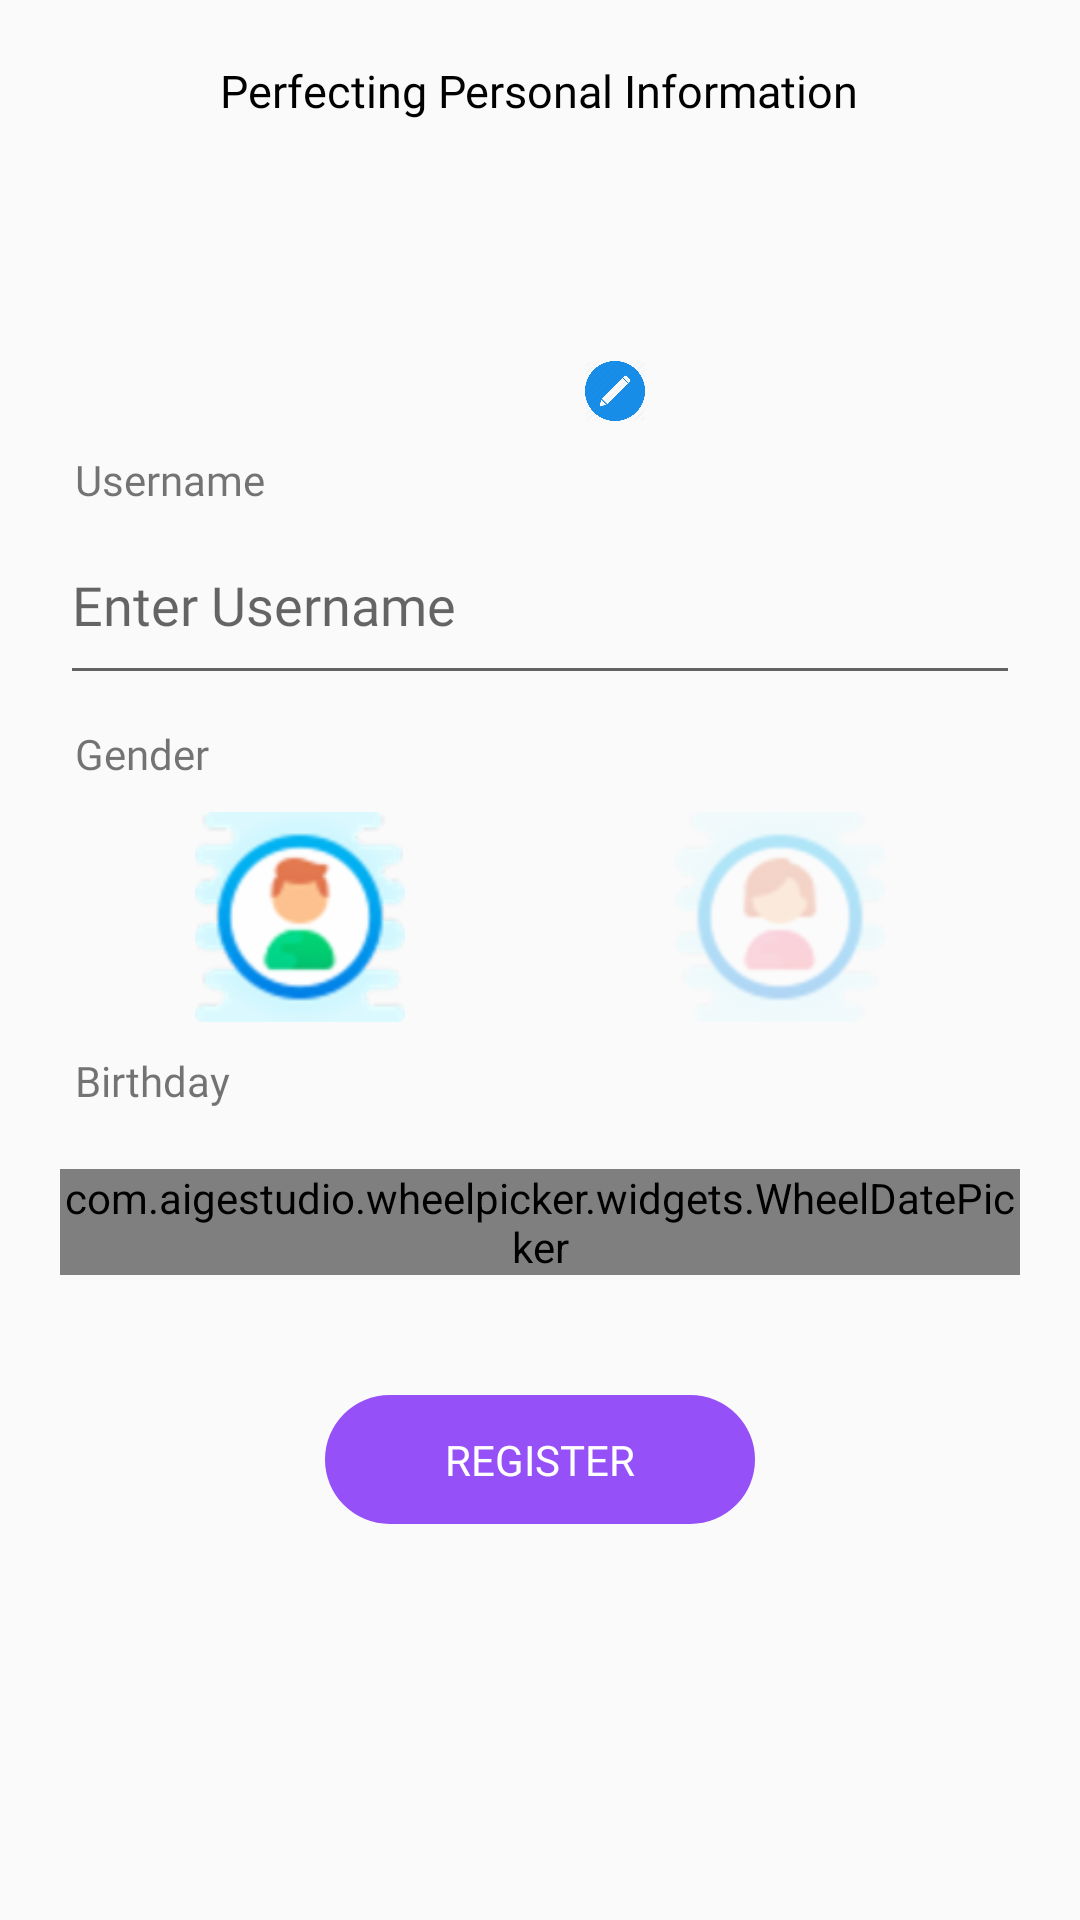

Screen size 1080w x 1920h. Icon name, then its center in pixels as (x=x, y=y):
edit pencil: (x=615, y=391)
female profile: (x=780, y=917)
male user: (x=300, y=917)
